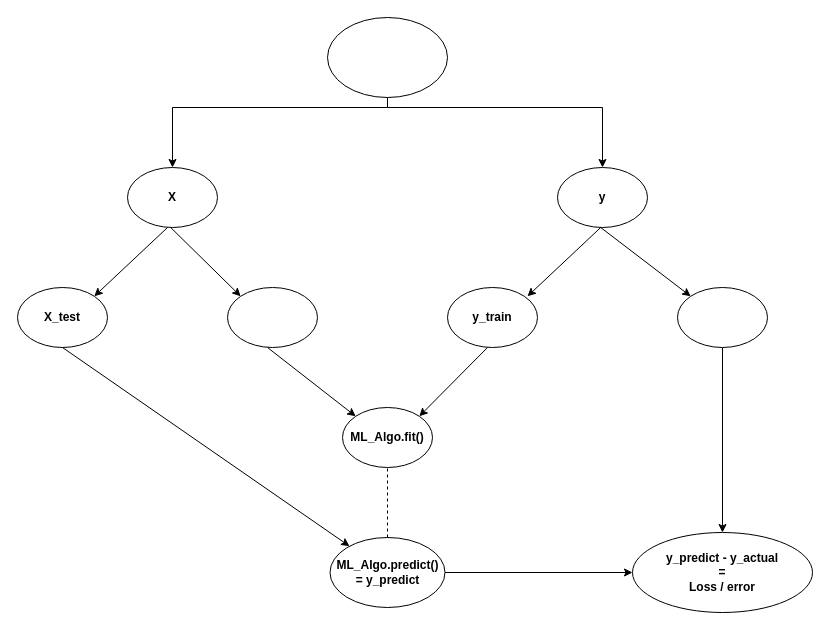
Image size: 830x630. Some labels were removed from this diagram. Here are the shapes that lost their labels. From the top down, the centre of each, then its label:
point (387, 57): Data Split
point (272, 317): X_train
point (722, 317): y_test
